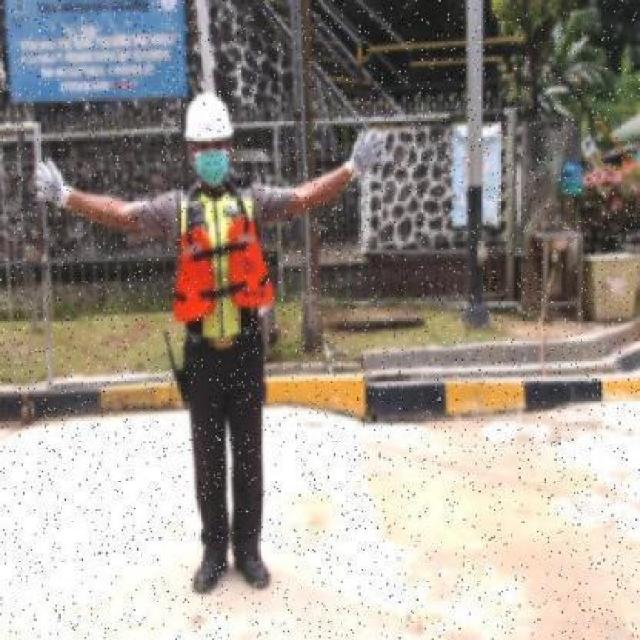Gloves: (342, 123, 390, 192), (30, 152, 75, 219)
Helmet: (183, 88, 234, 141)
Mask: (192, 153, 231, 190)
Vest: (170, 212, 276, 331)
